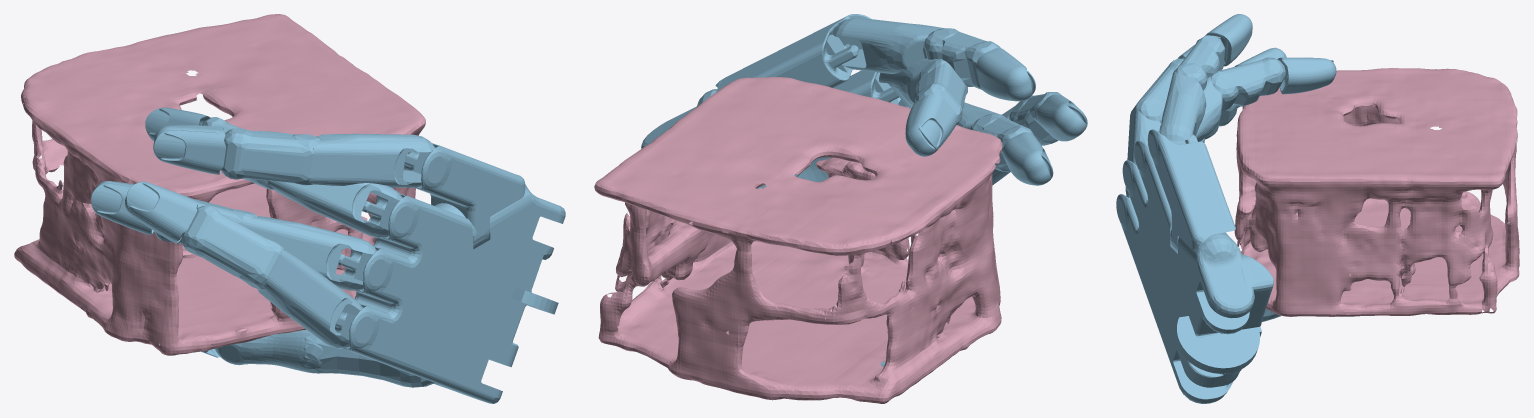
3 renders of one model, left to right at view 1: azimuth 30°, elevation 25°; view 2: azimuth 150°, elevation 25°; view 3: azimuth 270°, elevation 25°, orthographic. The views are drawn at different scales.
Parts seen in each view (by area): view 1: hand_isaac_q, world; view 2: world, hand_isaac_q; view 3: world, hand_isaac_q.
Part boxes in pixels (x1=…): hand_isaac_q: x1=91, y1=107, x2=565, y2=403; world: x1=14, y1=14, x2=425, y2=355; world: x1=594, y1=77, x2=1002, y2=403; hand_isaac_q: x1=641, y1=14, x2=1087, y2=366; world: x1=1234, y1=68, x2=1519, y2=316; hand_isaac_q: x1=1116, y1=14, x2=1336, y2=403.
Bounding box in the file's own units: 0.1923 × 0.137 × 0.1853.
